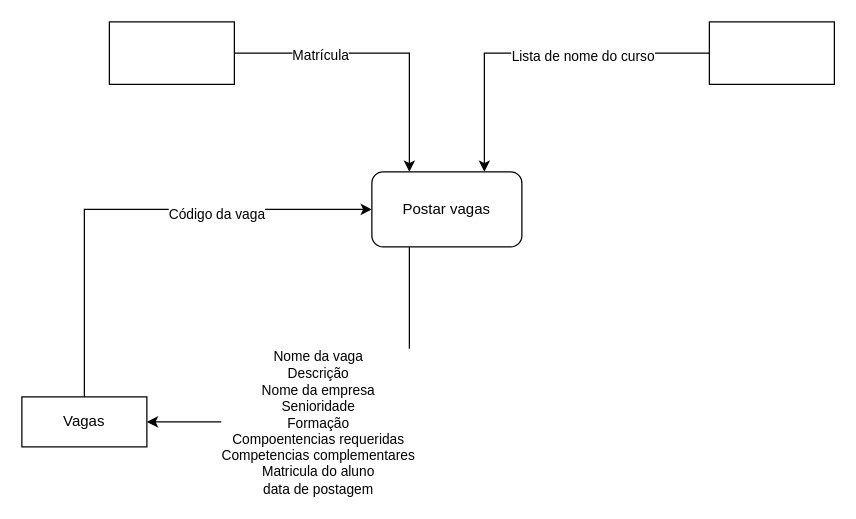
The diagram is 856 pixels wide and 519 high, and some of its shapes have lost their labels. Here are the shapes that lost their labels. From the top down, the box of each, then its label:
(108, 21, 234, 84): Usuário
(708, 21, 834, 84): Curso do aluno
